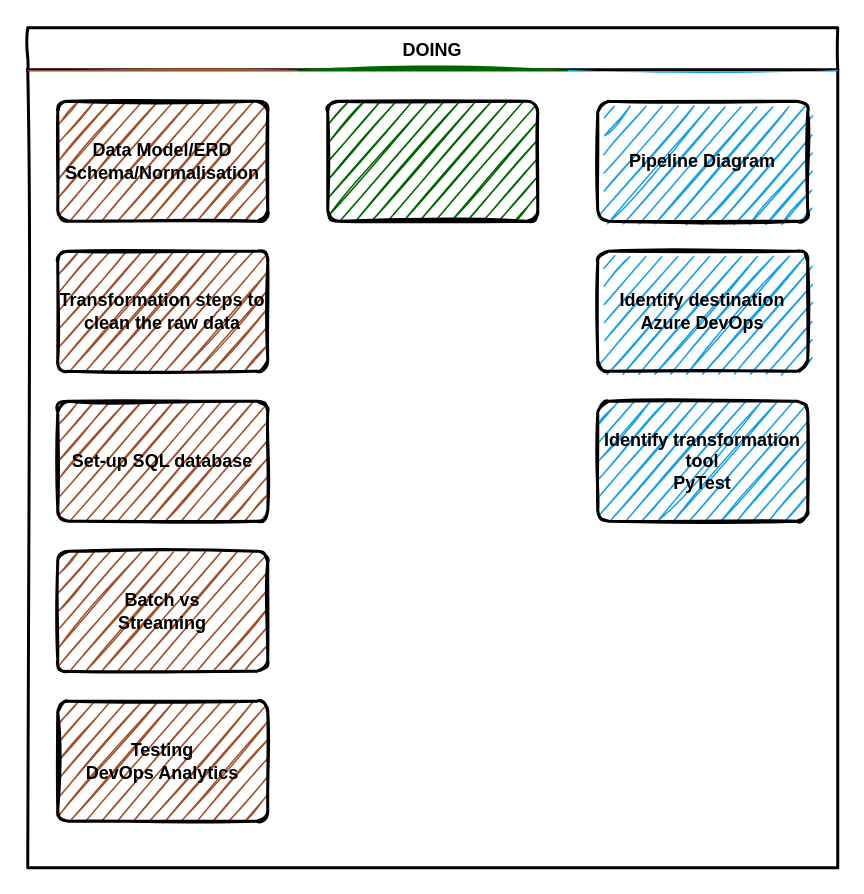
Some shapes in this 864 by 894 pixel diagram are drawn without their labels. Each missing label, with the box of its shape:
Data Sources CSVs What other sources?: (326, 99, 538, 222)
DONE: (567, 69, 837, 867)
TO DO: (27, 69, 297, 867)
